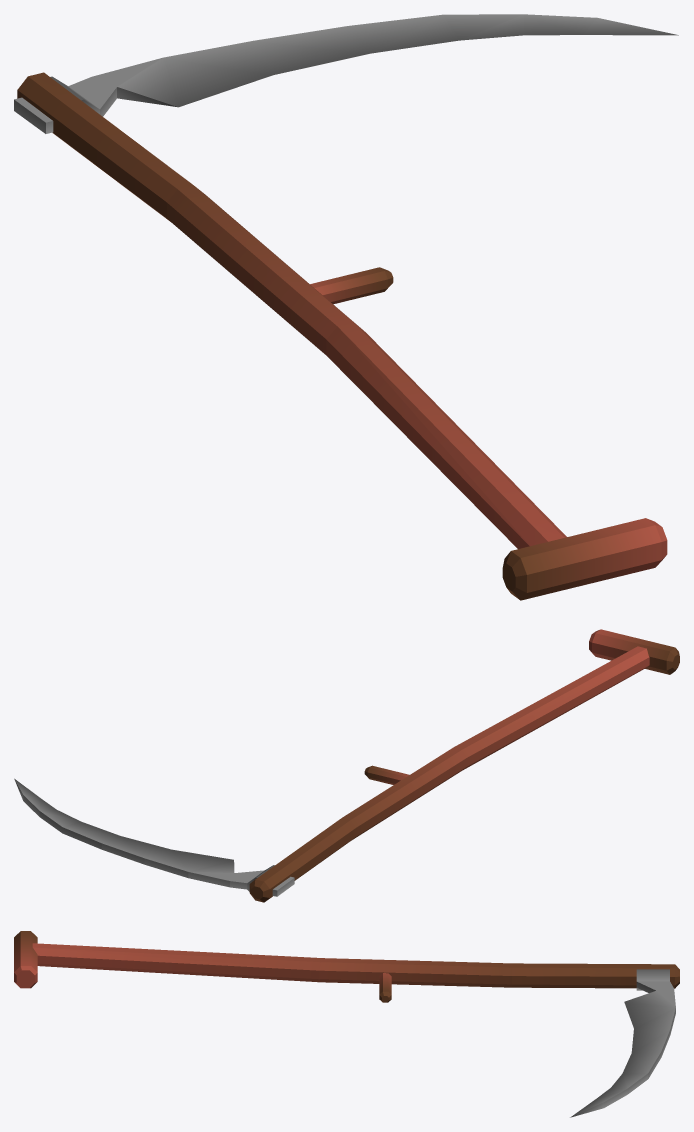
File: scythe.glb
3 views of the same model, one above another, from view 1: azimuth 30°, elevation 25°; view 2: azimuth 150°, elevation 25°; view 3: azimuth 270°, elevation 25° (orthographic). The views are drawn at different scales.
Parts seen in each view (by area): view 1: Scythe; view 2: Scythe; view 3: Scythe.
Boxes of the visible parts, left/top/right/bottom form: Scythe: left=14, top=14, right=678, bottom=600; Scythe: left=14, top=629, right=679, bottom=902; Scythe: left=14, top=931, right=679, bottom=1117.
Bounding box in the file's own units: 1.08 × 0.0643 × 1.72.
Materials: 1 (1 with a texture image).
